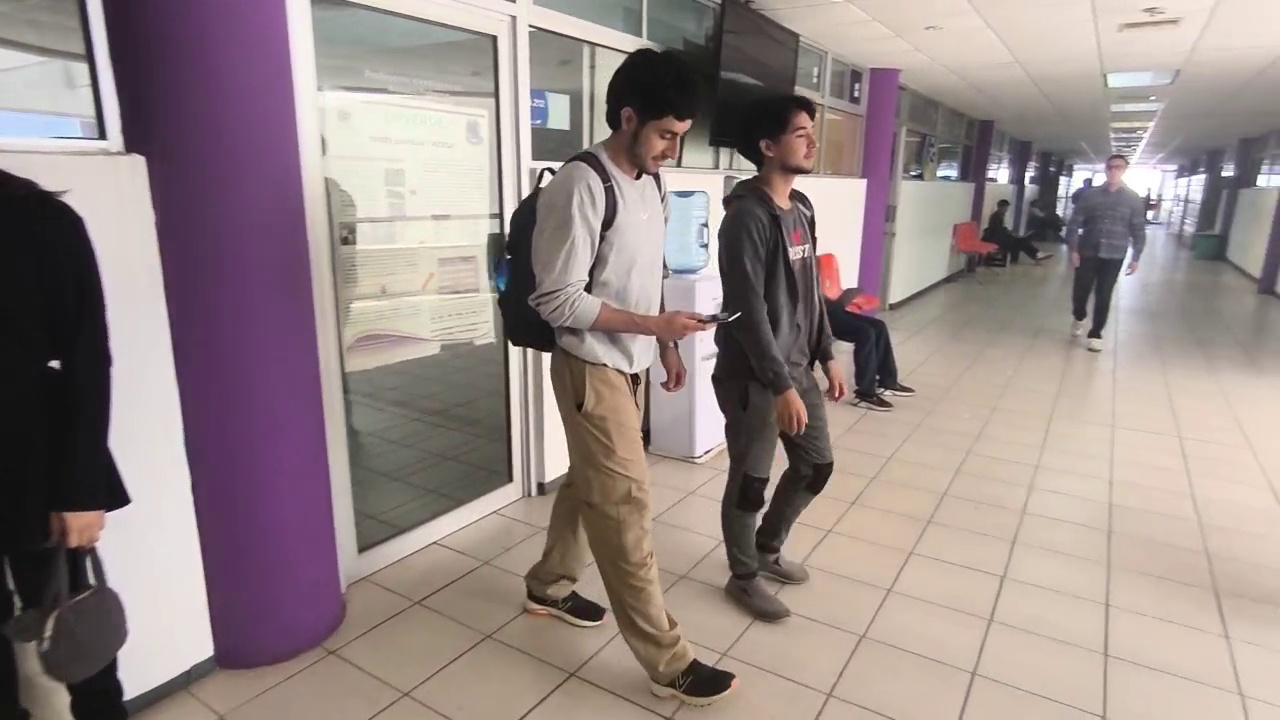mixto2: (691, 307, 745, 330)
